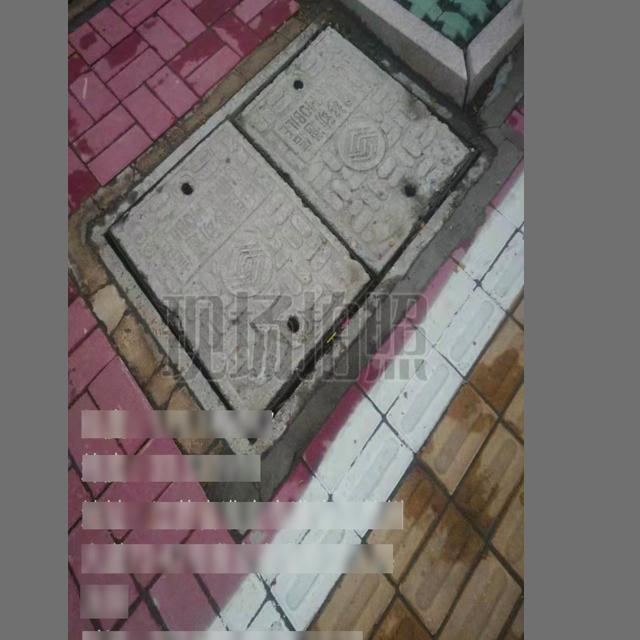good: (87, 48, 447, 408)
